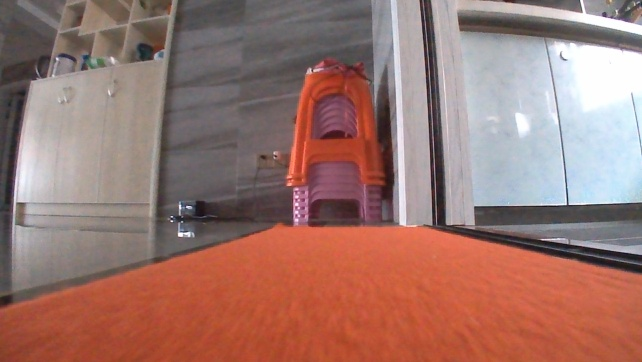blanket: (2, 221, 641, 361)
cupboard: (454, 1, 641, 222)
